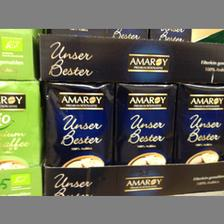Kaffee: (42, 80, 114, 163), (113, 84, 176, 164), (172, 80, 224, 163)
